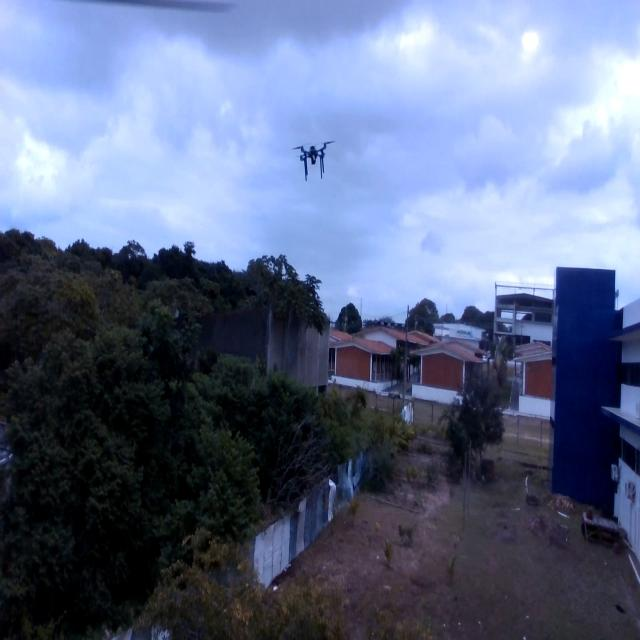-uav-: (288, 128, 342, 190)
